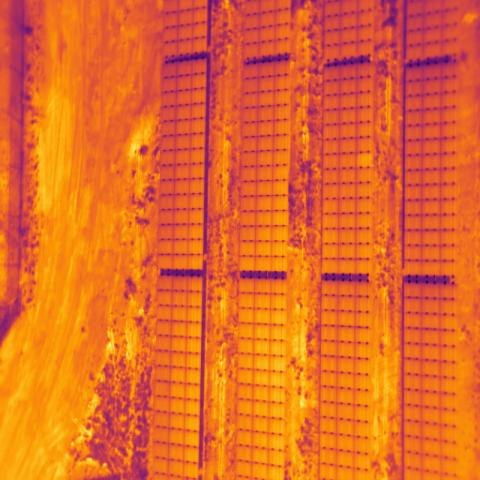fault: (356, 153, 372, 168)
